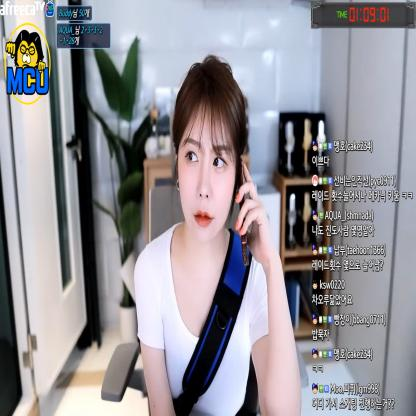streamer: (134, 52, 302, 416)
